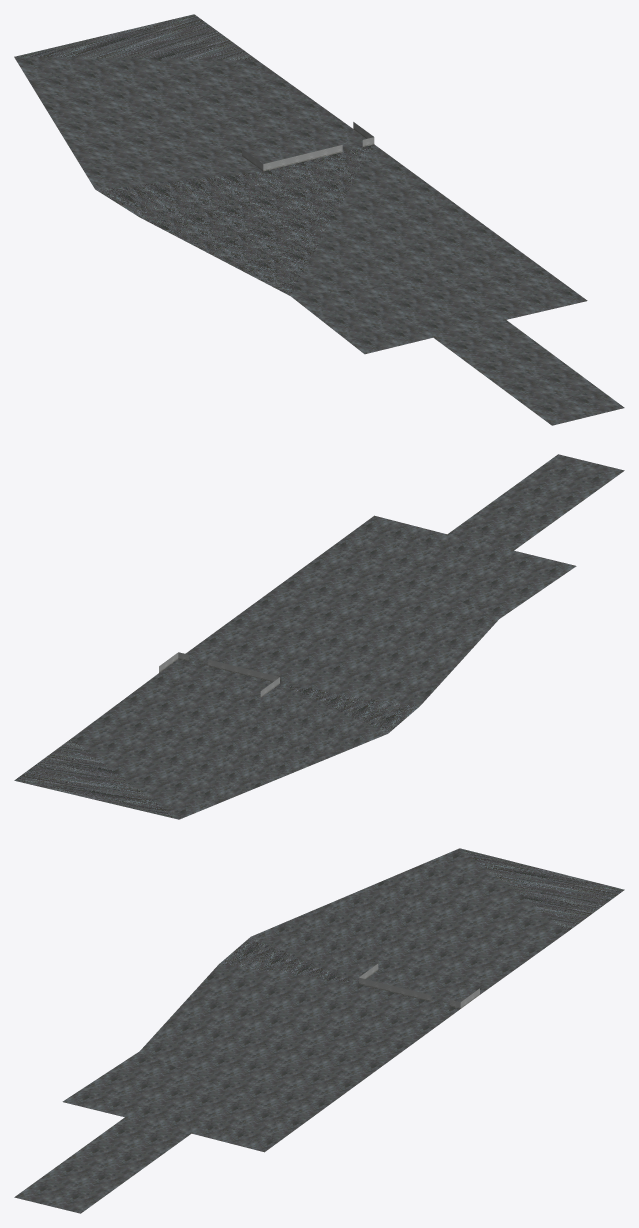
Rendered from lodsion_09_sfs.obj.
3 renders of one model, top to bottom at view 1: azimuth 30°, elevation 25°; view 2: azimuth 150°, elevation 25°; view 3: azimuth 330°, elevation 25°, orthographic. The views are drawn at different scales.
Parts seen in each view (by area): view 1: LODsion_09_SFS; view 2: LODsion_09_SFS; view 3: LODsion_09_SFS.
Boxes of the visible parts, x1,y1,x2,y2 form: LODsion_09_SFS: (14,14,624,425); LODsion_09_SFS: (14,454,624,819); LODsion_09_SFS: (14,848,624,1213).
Bounding box in the file's own units: 74.05 × 2.43 × 259.
Materials: 2 (2 with a texture image).
